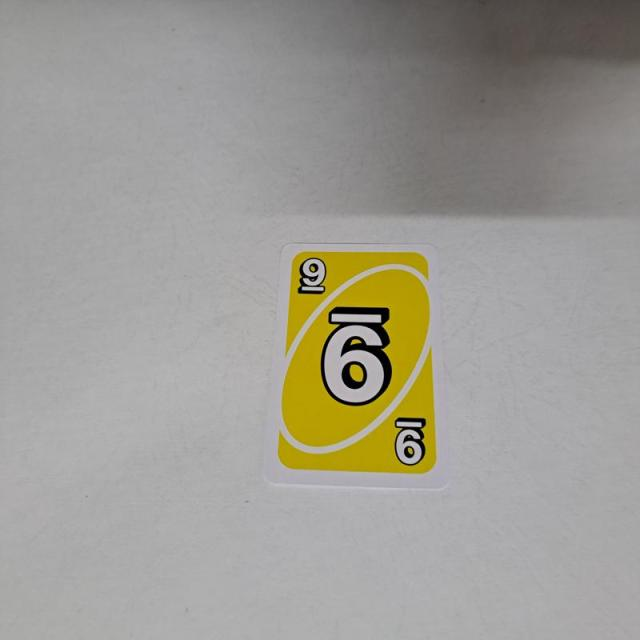Number_9: (299, 254, 332, 298)
Yellow_Card: (273, 247, 444, 478)
